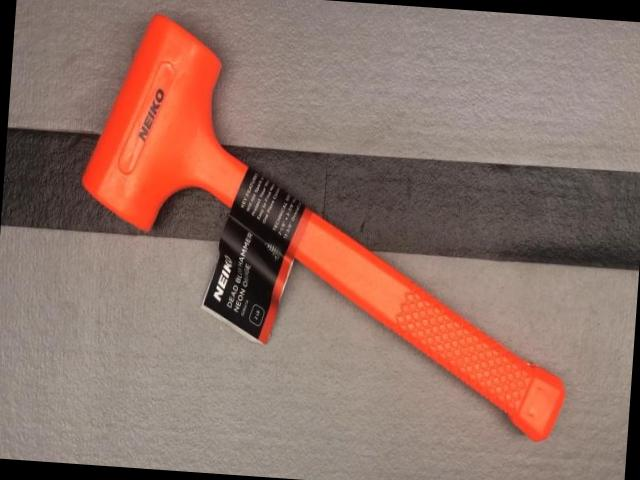hammer: (64, 9, 590, 444)
